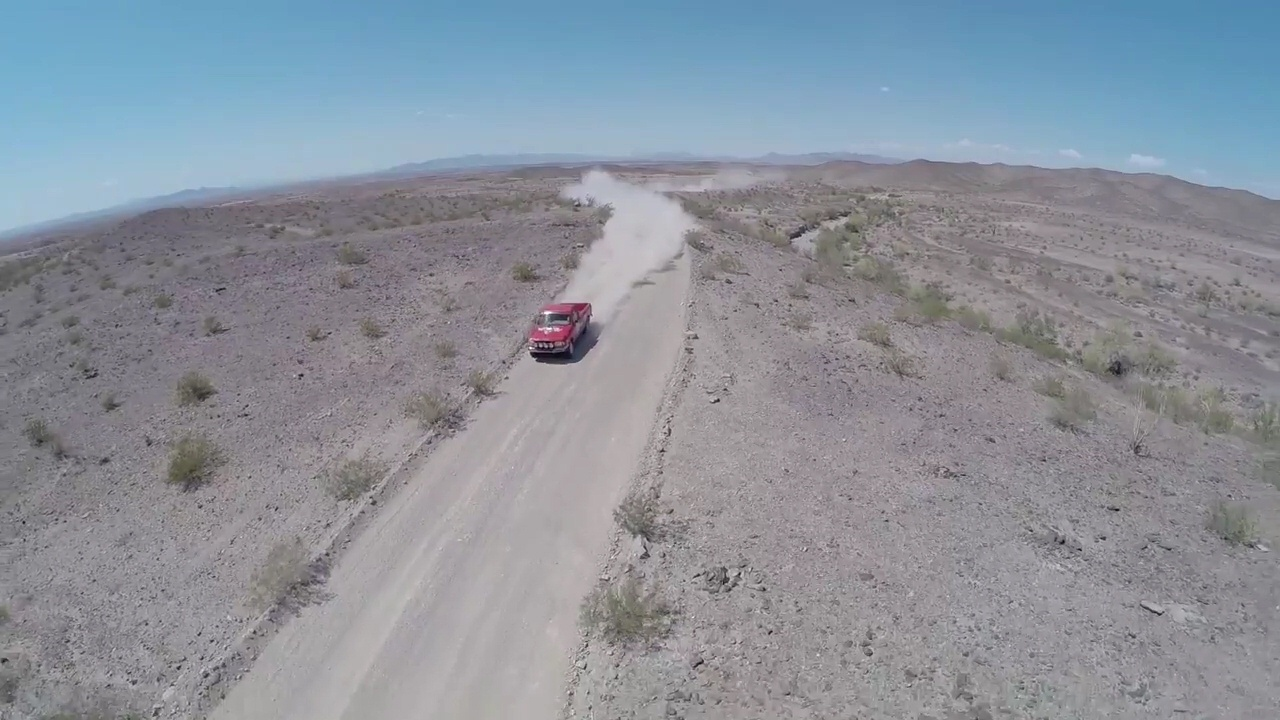araba: (524, 301, 596, 357)
